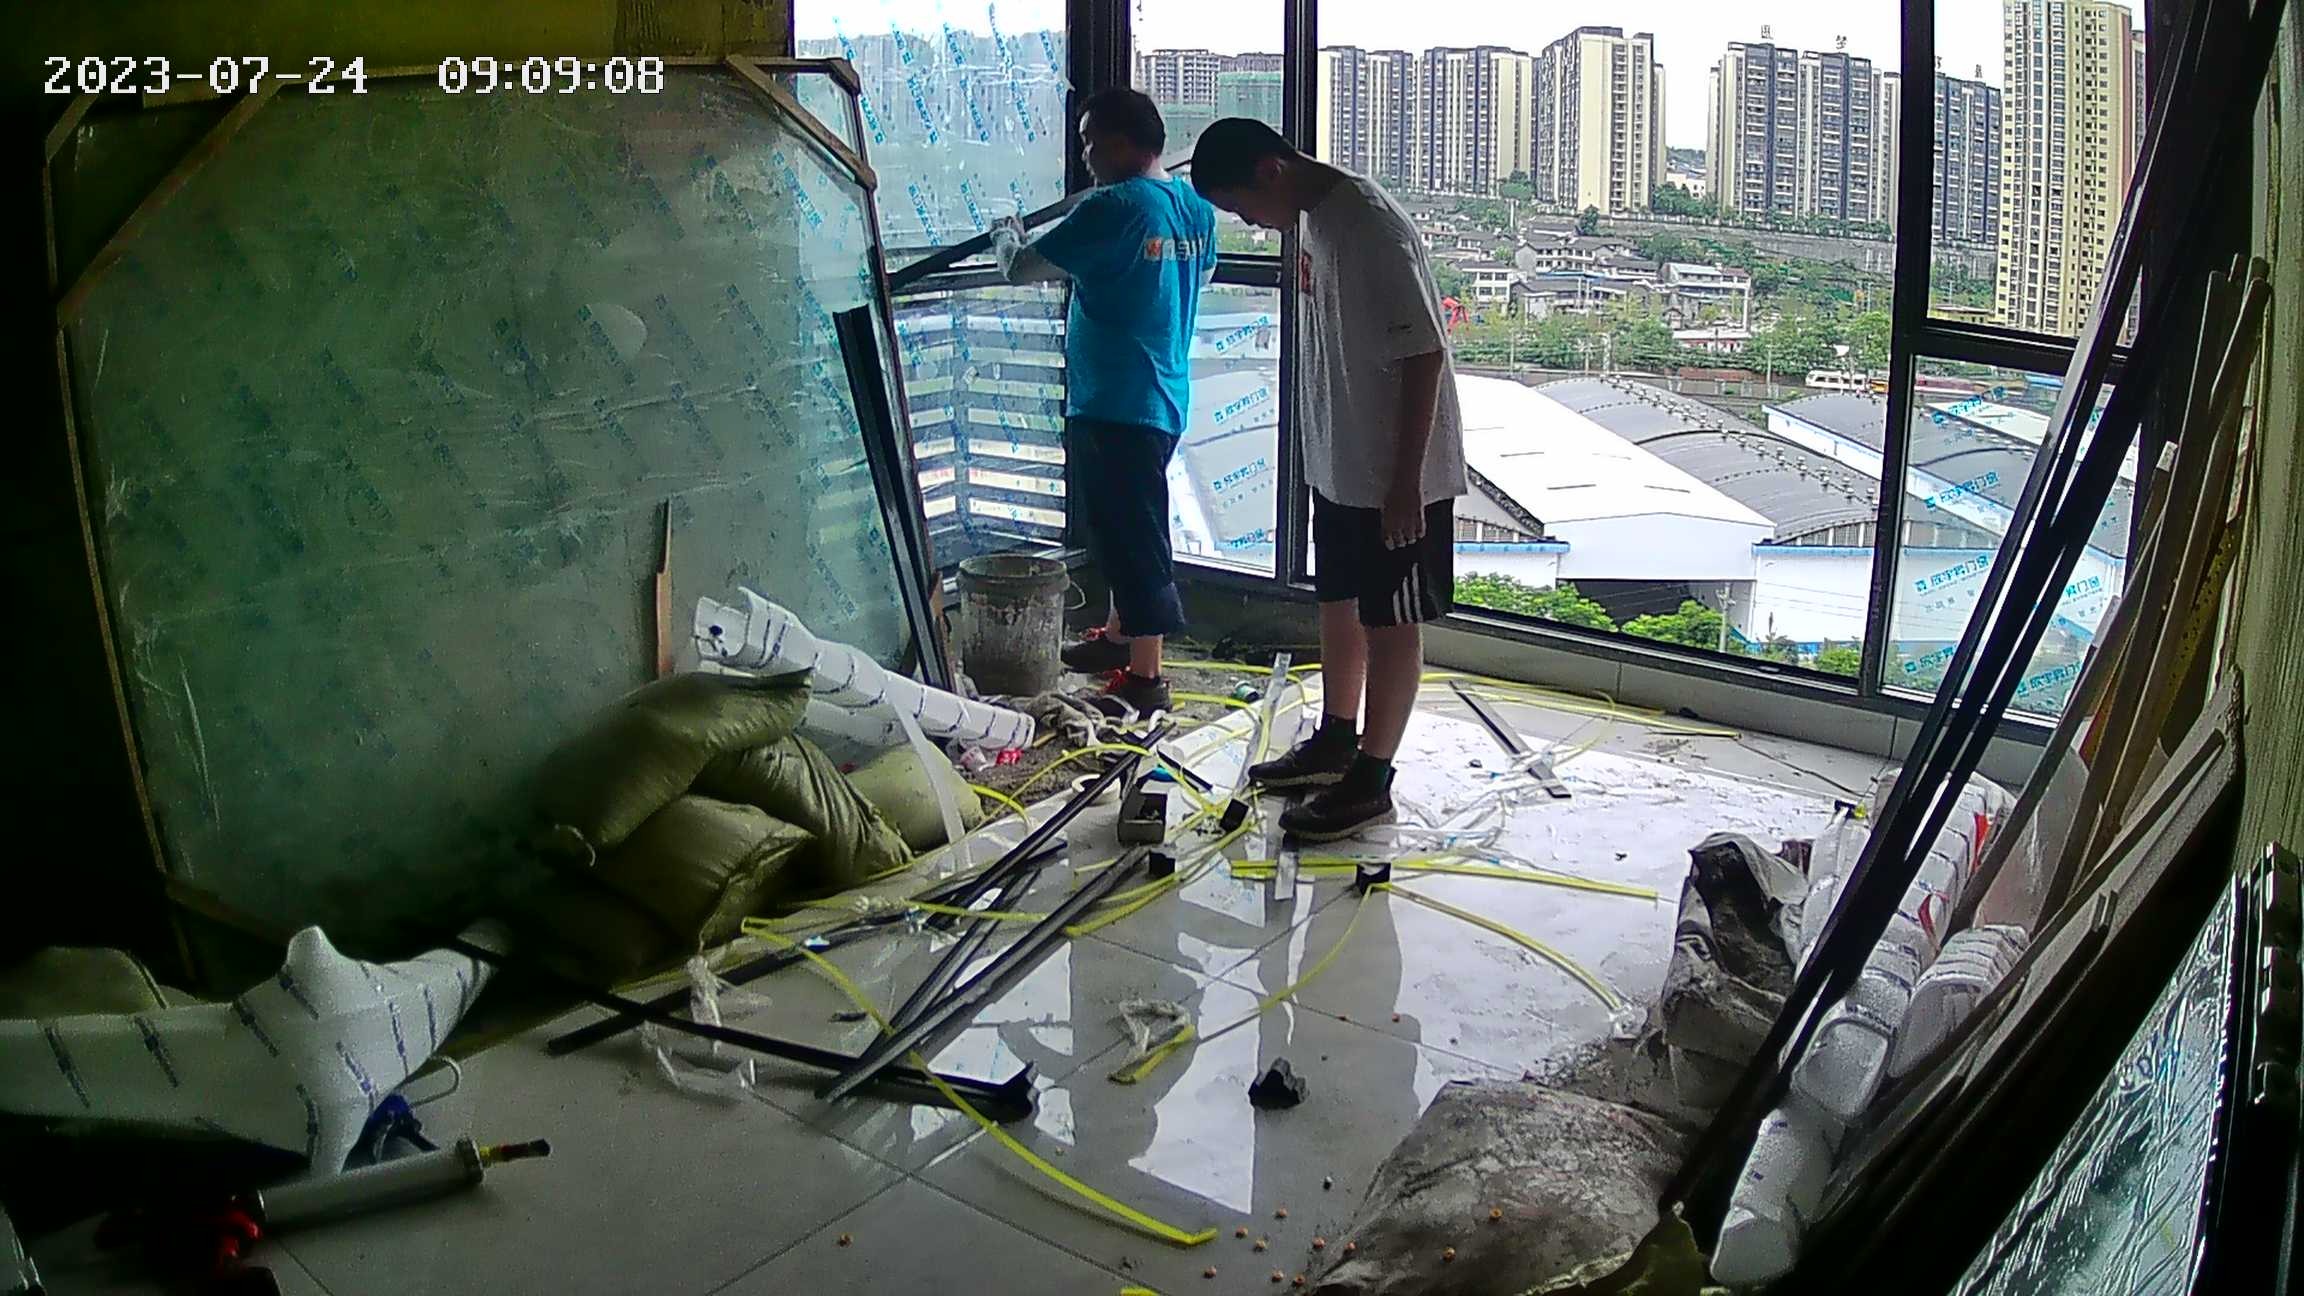people: (1182, 115, 1447, 852), (995, 97, 1208, 721)
window: (786, 1, 2179, 746)
